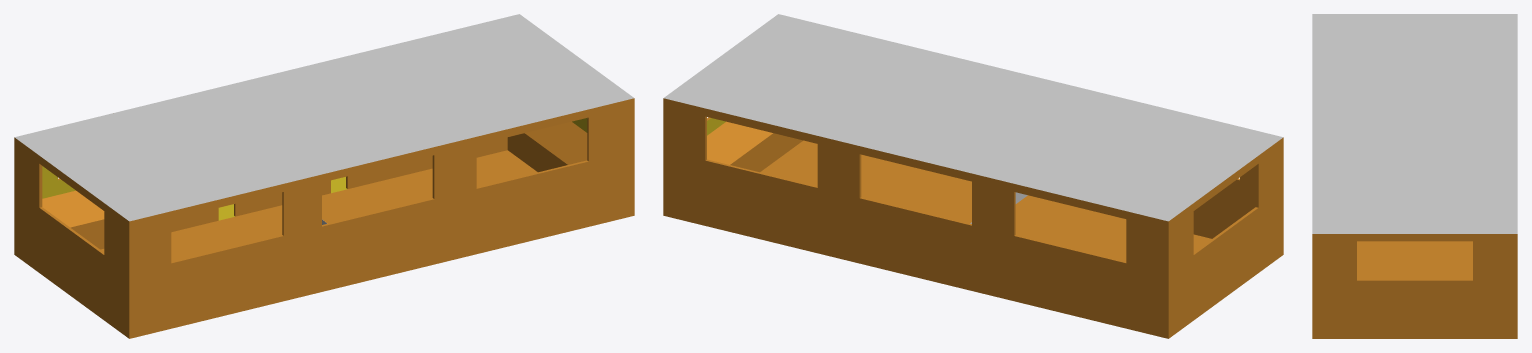
Rendered from Salle.fbx.
3 renders of one model, left to right at view 1: azimuth 30°, elevation 25°; view 2: azimuth 150°, elevation 25°; view 3: azimuth 270°, elevation 25°, orthographic. The views are drawn at different scales.
Visible parts, largest first — view 1: Roof, Wall_Right-Outside, Wall_Back-Outside, Ground_Court, Wall_Left-Bottom, Gallery_Front-Up, Embrasures, Gallery_Left-Up, Wall_Front-Bottom, Wall_Left-Top; view 2: Roof, Wall_Left-Outside, Ground_Court, Wall_Back-Outside, Wall_Right_Inside, Gallery_Front-Up, Embrasures, Wall_Front-Bottom; view 3: Roof, Wall_Front-Outside, Ground_Court, Embrasures.
Boxes of the visible parts, box(x1,y1,x2,y2) form: Roof: box(14, 14, 634, 221); Wall_Right-Outside: box(129, 98, 634, 338); Wall_Back-Outside: box(14, 137, 129, 338); Ground_Court: box(100, 150, 537, 261); Wall_Left-Bottom: box(70, 137, 507, 249); Gallery_Front-Up: box(525, 121, 587, 164); Embrasures: box(39, 117, 588, 263); Gallery_Left-Up: box(42, 190, 104, 227); Wall_Front-Bottom: box(507, 133, 567, 172); Wall_Left-Top: box(42, 166, 75, 198); Roof: box(663, 14, 1283, 221); Wall_Left-Outside: box(663, 98, 1168, 338); Ground_Court: box(760, 140, 1211, 261); Wall_Back-Outside: box(1168, 137, 1283, 338); Wall_Right_Inside: box(1193, 166, 1255, 238); Gallery_Front-Up: box(707, 121, 772, 164); Embrasures: box(705, 116, 1258, 262); Wall_Front-Bottom: box(730, 133, 803, 172); Roof: box(1312, 14, 1517, 233); Wall_Front-Outside: box(1312, 234, 1517, 338); Ground_Court: box(1357, 241, 1472, 279); Embrasures: box(1357, 279, 1472, 280).
Size of the model in its own units: 36 by 8 by 14.2.
